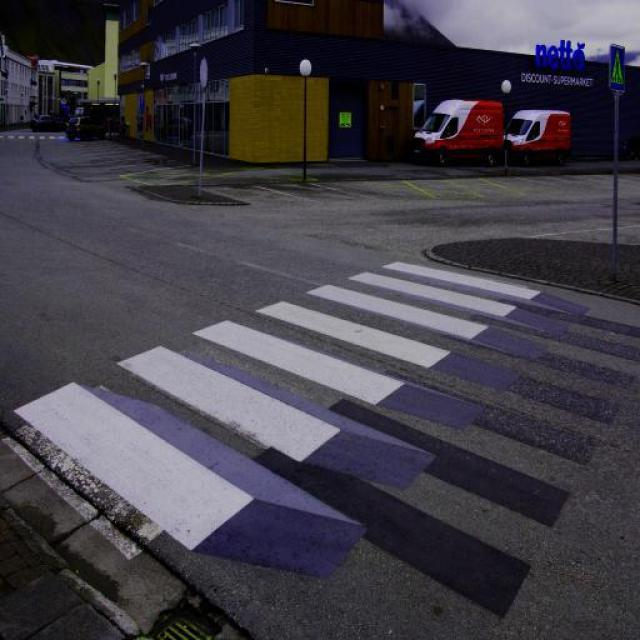crosswalk: (7, 255, 552, 558)
